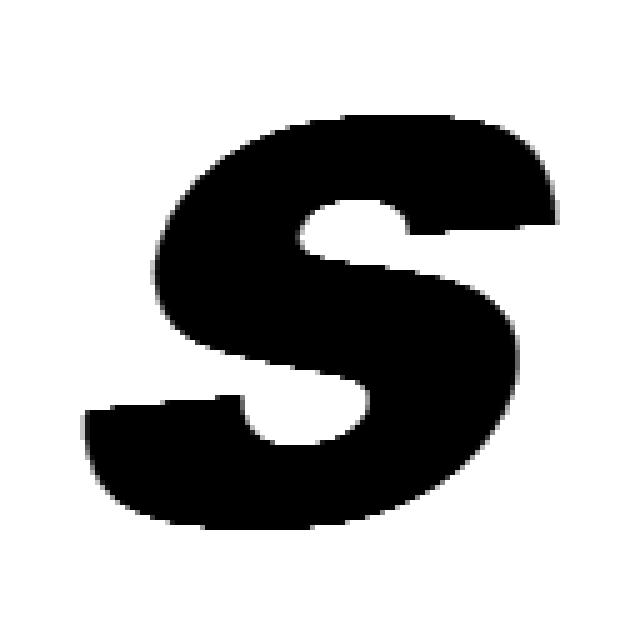S: (75, 105, 565, 535)
